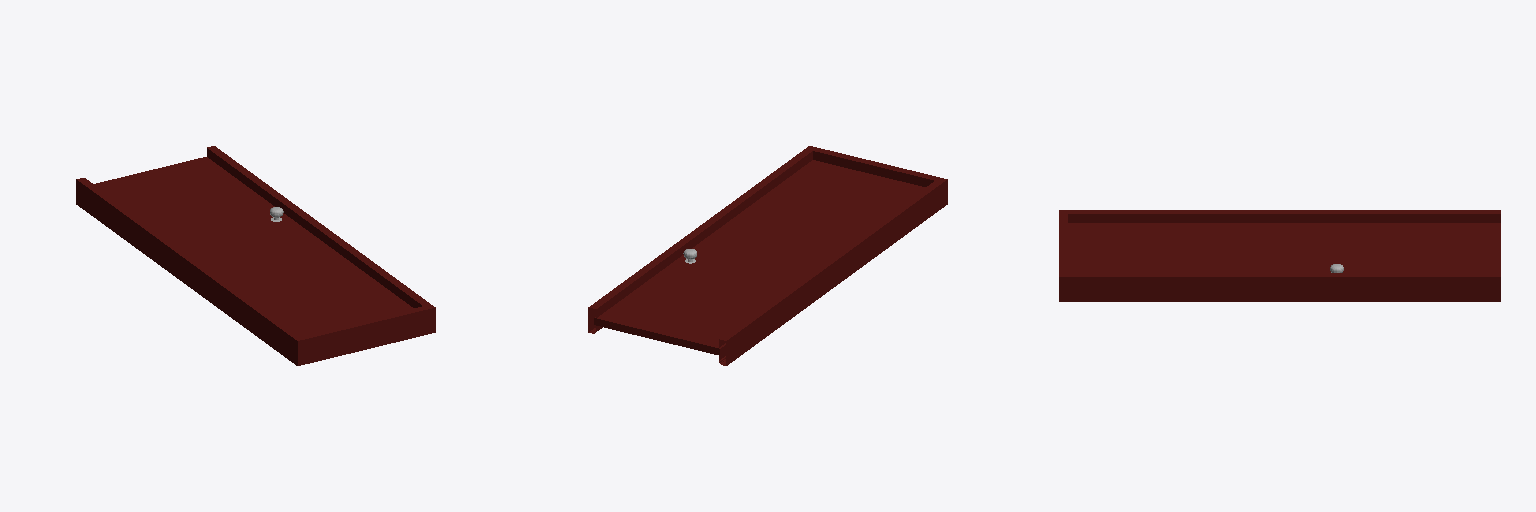
Rendered from 16667_32x96_Slab_Door-Cherry_V1.obj.
3 renders of one model, left to right at view 1: azimuth 30°, elevation 25°; view 2: azimuth 150°, elevation 25°; view 3: azimuth 270°, elevation 25°, orthographic.
Visible parts, largest first — view 1: SlabDoor32x108, SlabDoorFrame32x108; view 2: SlabDoor32x108, SlabDoorFrame32x108; view 3: SlabDoor32x108, SlabDoorFrame32x108.
Part boxes in pixels (left/top/right/bottom): SlabDoor32x108: left=94, top=157, right=412, bottom=335; SlabDoorFrame32x108: left=76, top=146, right=435, bottom=365; SlabDoor32x108: left=594, top=160, right=925, bottom=355; SlabDoorFrame32x108: left=588, top=146, right=947, bottom=365; SlabDoor32x108: left=1068, top=223, right=1500, bottom=272; SlabDoorFrame32x108: left=1059, top=210, right=1500, bottom=301.
Size of the model in its own units: 88.88 by 18.18 by 247.